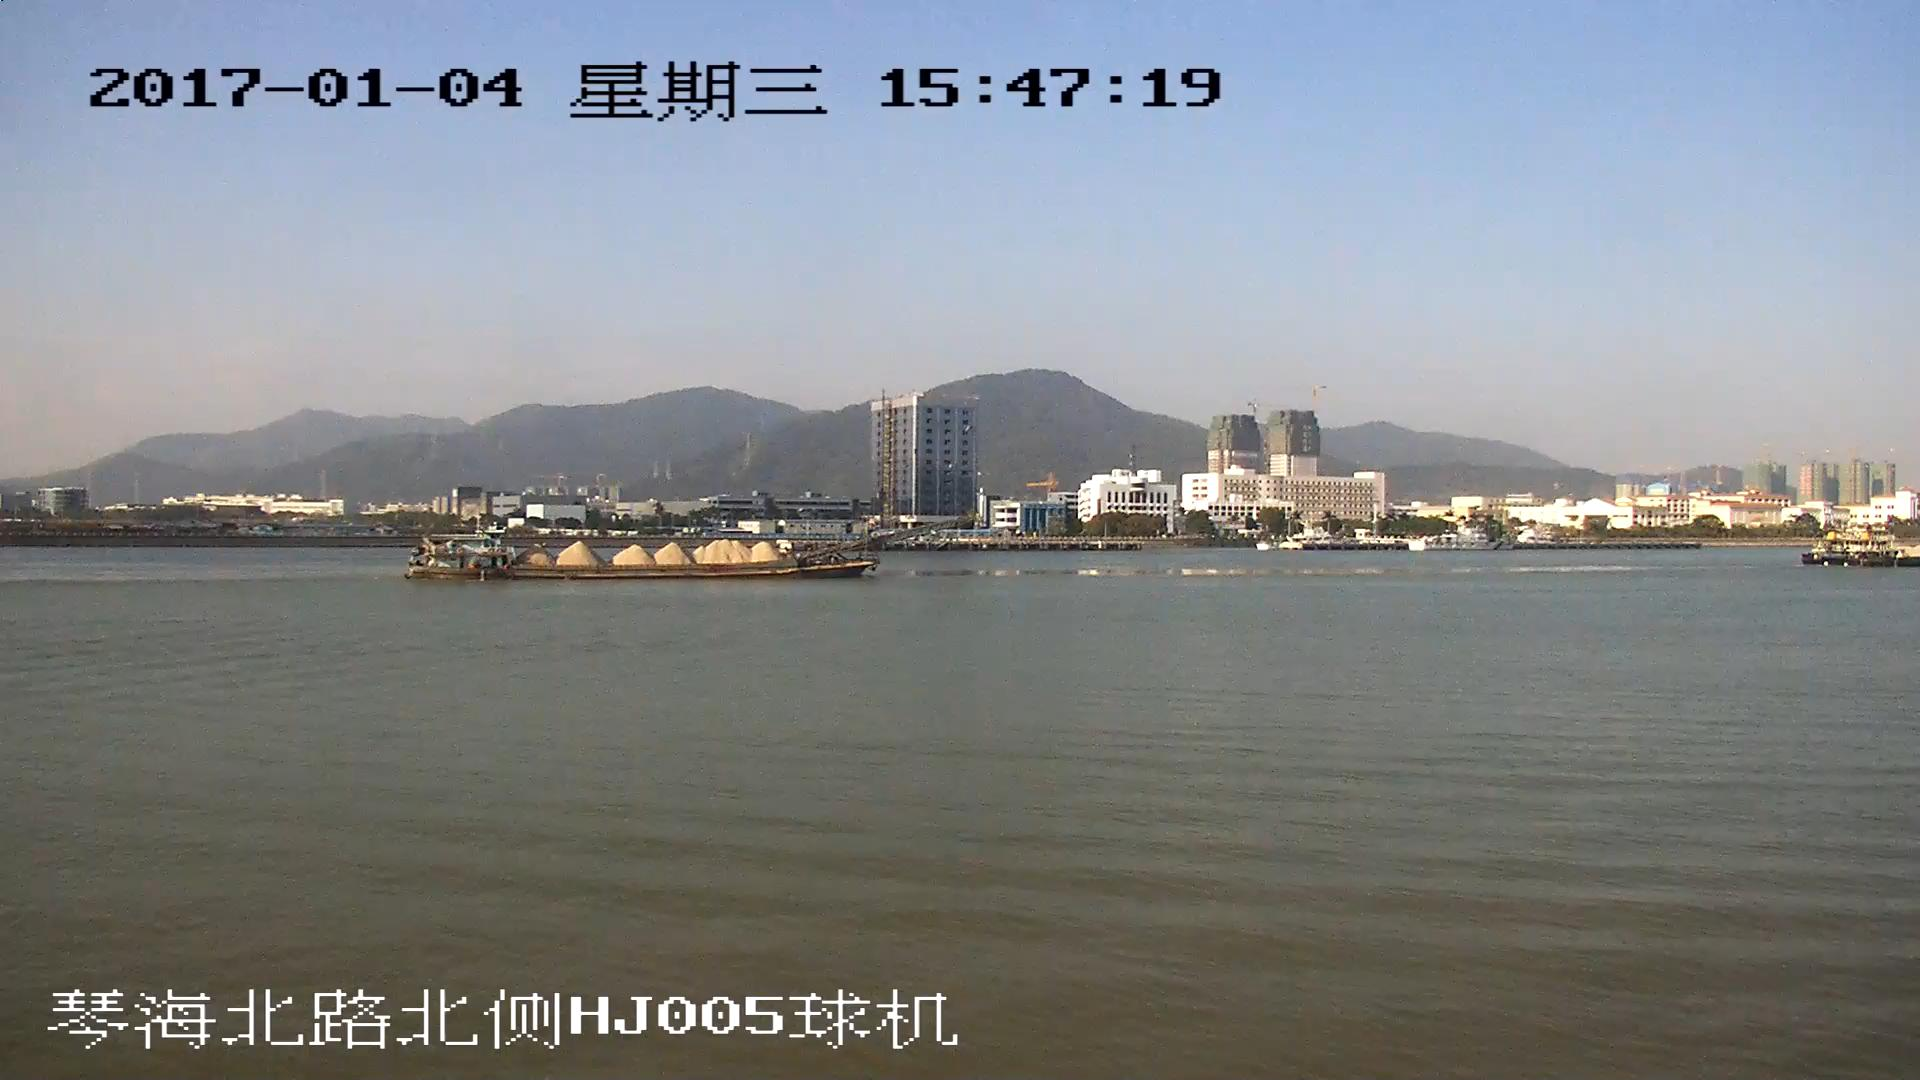ore carrier: (411, 515, 967, 583)
